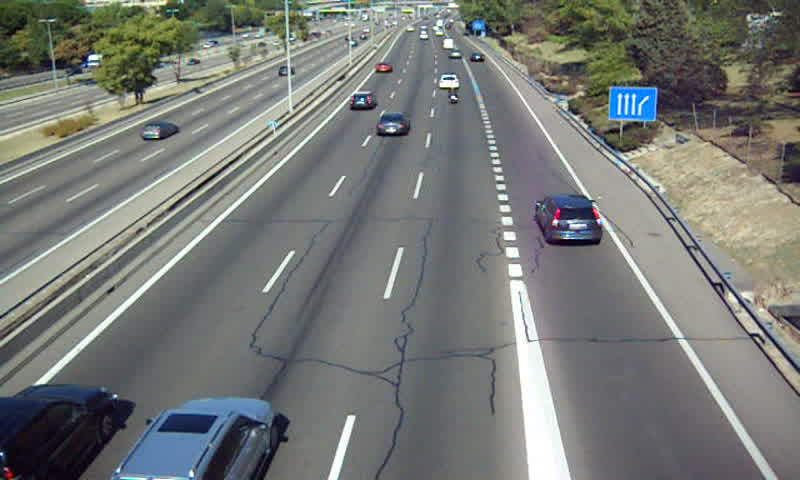car: (111, 398, 276, 480), (534, 194, 604, 245), (378, 113, 413, 137), (349, 91, 377, 113), (437, 74, 461, 90), (375, 61, 394, 73)
motorcycle: (445, 86, 460, 104)
